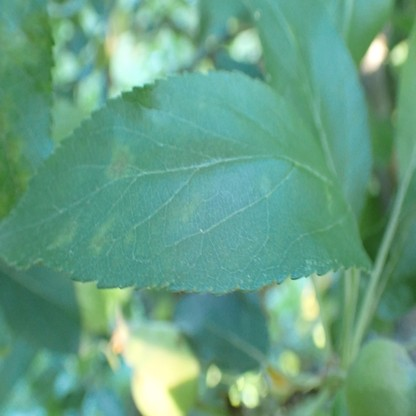scab: (48, 221, 76, 251), (108, 145, 131, 180), (92, 219, 115, 252), (180, 192, 201, 221), (258, 175, 271, 194), (125, 231, 134, 242)
